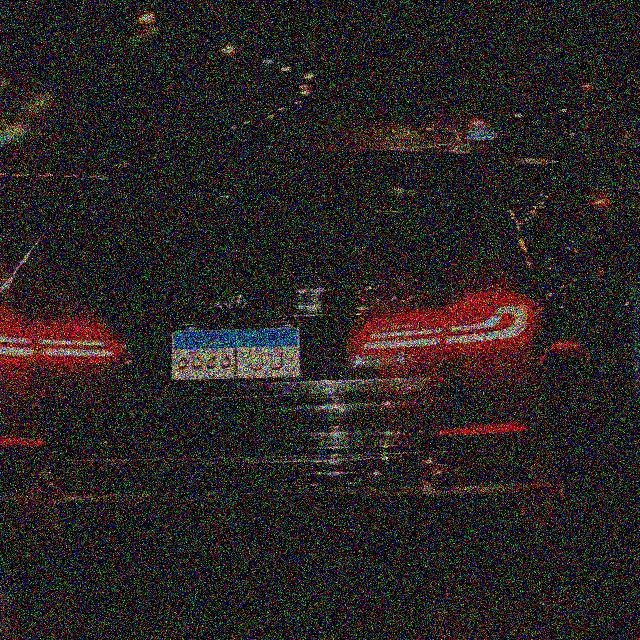License Plate: (168, 326, 303, 382)
